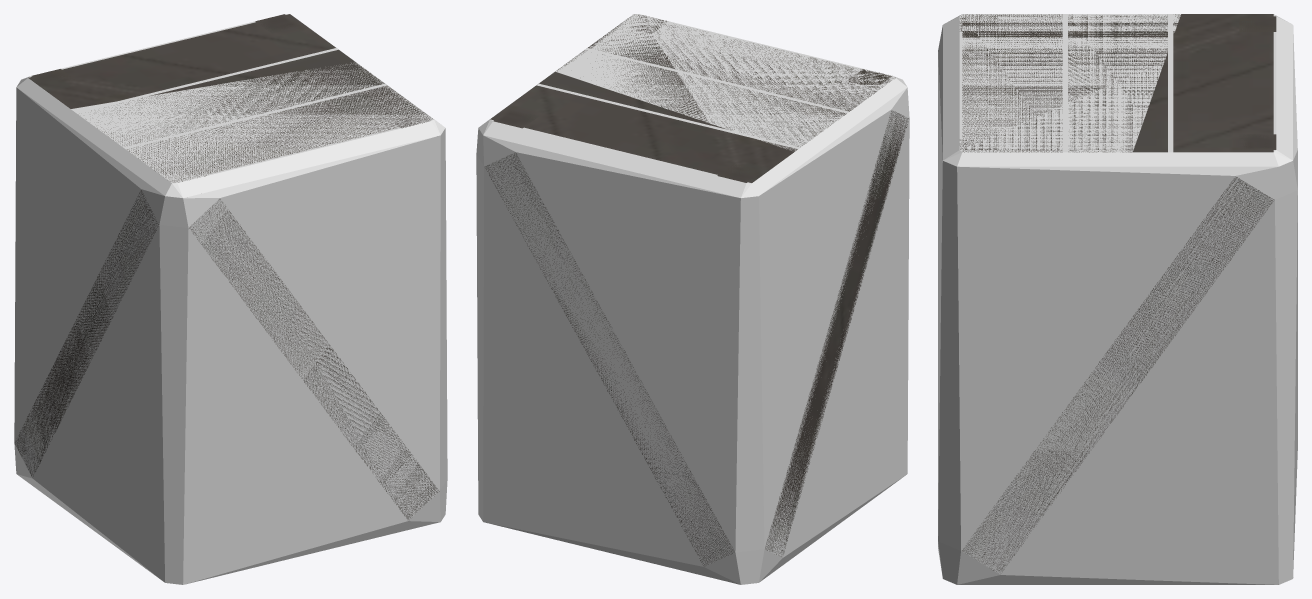
File: crate.low.webp.glb
3 views of the same model, side by side, from view 1: azimuth 30°, elevation 25°; view 2: azimuth 150°, elevation 25°; view 3: azimuth 270°, elevation 25° (orthographic). The views are drawn at different scales.
Parts seen in each view (by area): view 1: COL, LOD1_body, FRAC_5_l1; view 2: COL, LOD1_body, FRAC_5_l1; view 3: COL, LOD1_body, FRAC_5_l1.
Part boxes in pixels (left/top/right/bottom): COL: left=14, top=14, right=447, bottom=584; LOD1_body: left=15, top=62, right=439, bottom=519; FRAC_5_l1: left=28, top=14, right=354, bottom=108; COL: left=476, top=14, right=909, bottom=584; LOD1_body: left=485, top=14, right=908, bottom=566; FRAC_5_l1: left=490, top=71, right=793, bottom=182; COL: left=938, top=14, right=1297, bottom=584; LOD1_body: left=960, top=14, right=1274, bottom=571; FRAC_5_l1: left=1133, top=14, right=1276, bottom=152.
Bounding box in the file's own units: 0.6783 × 0.9 × 0.6783.
Materials: 1 (1 with a texture image).
